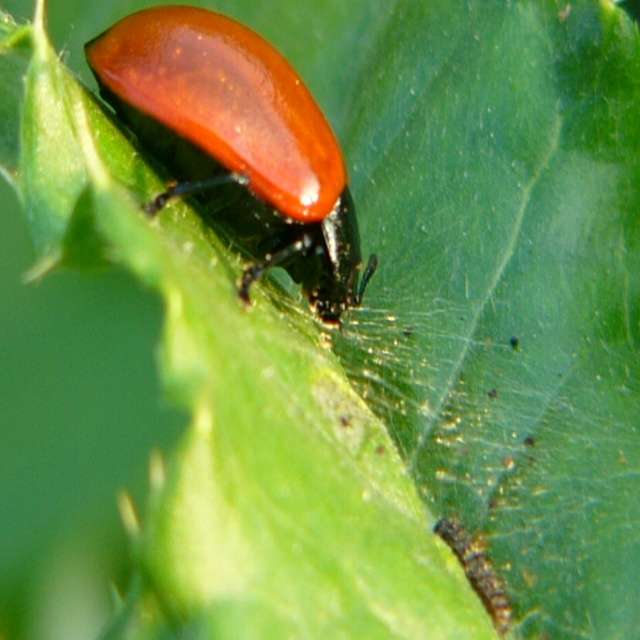Ladybug: (84, 5, 378, 337)
